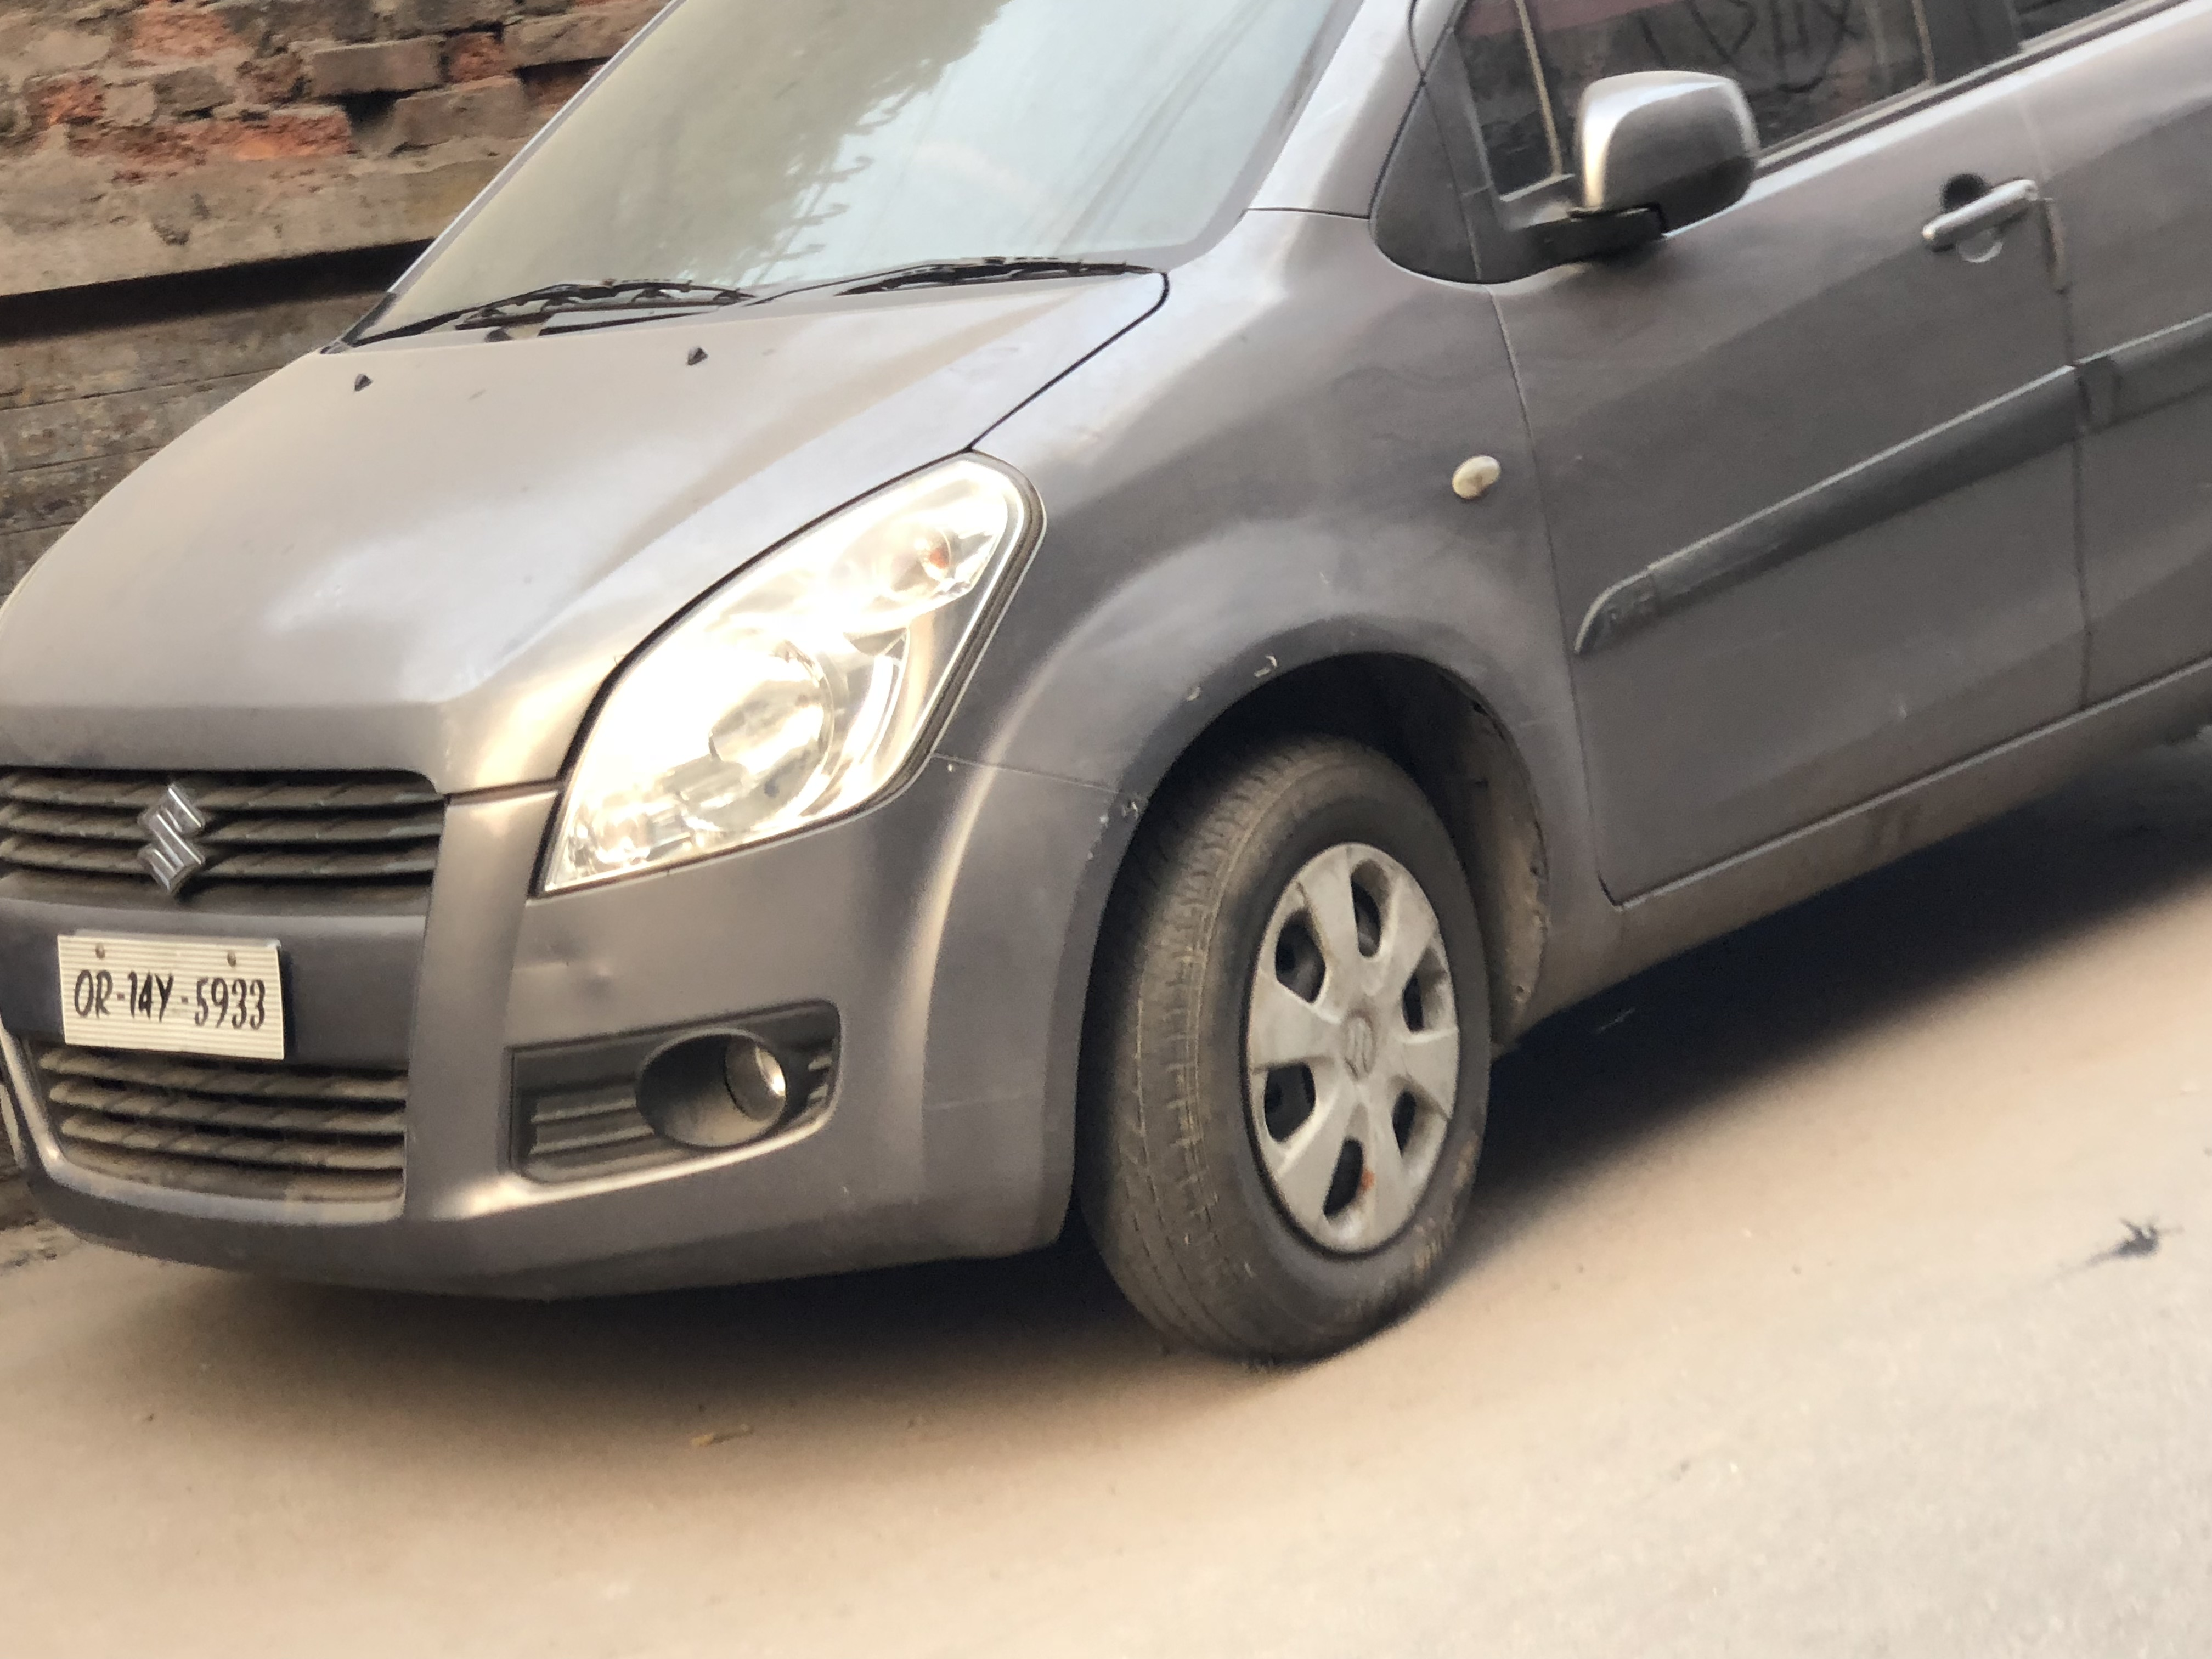licenseplate: (52, 922, 292, 1068)
